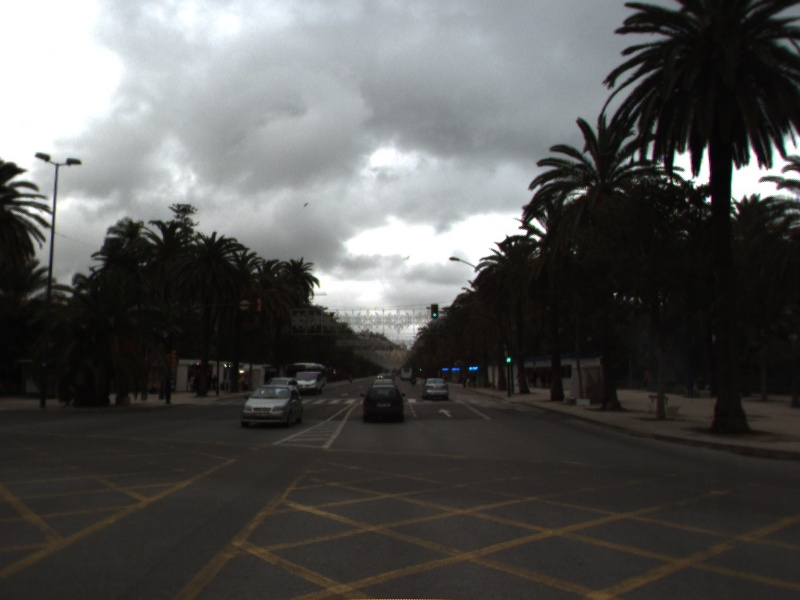STRAIGHT: (436, 406, 455, 420)
